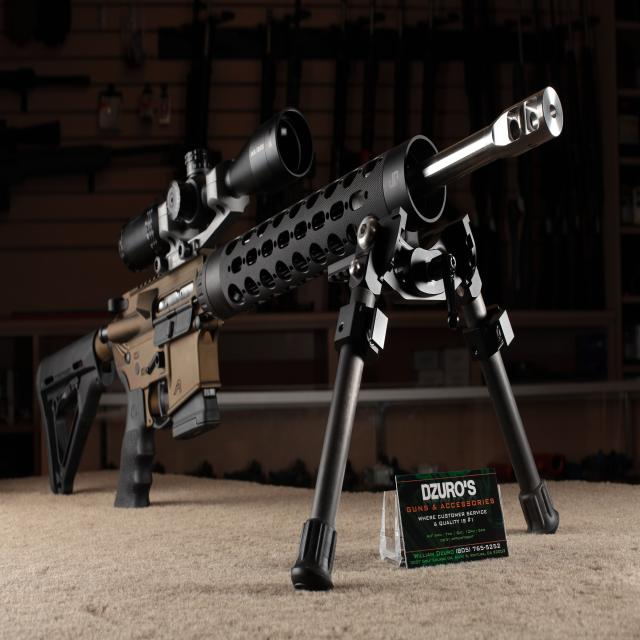Rifle: (36, 88, 565, 511)
